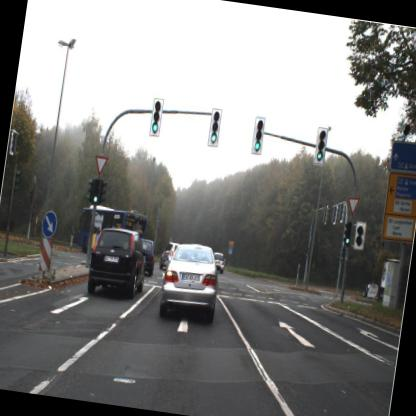mandatory: (37, 209, 62, 242)
other: (88, 150, 112, 184), (344, 190, 363, 217)
